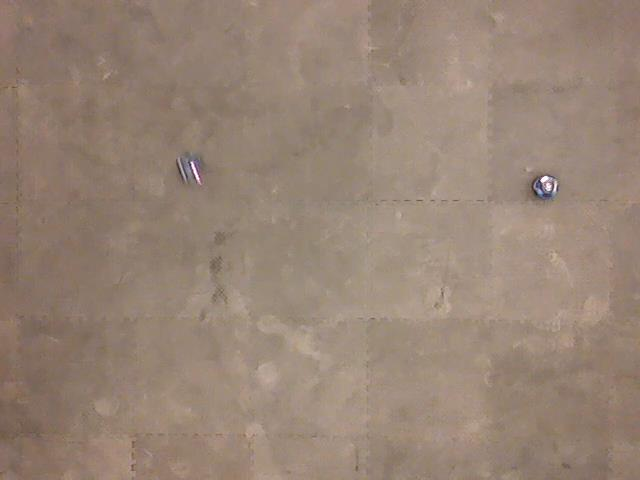Agent: (173, 151, 207, 189), (529, 172, 561, 202)
